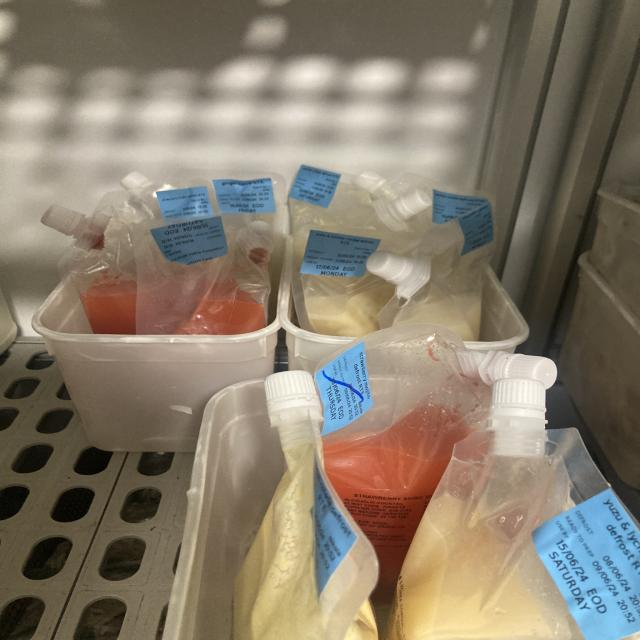product-labels: (308, 340, 377, 436), (150, 211, 229, 273), (299, 229, 383, 283), (289, 160, 342, 211), (428, 191, 490, 233), (213, 178, 276, 214), (456, 201, 496, 257), (156, 185, 212, 222)
